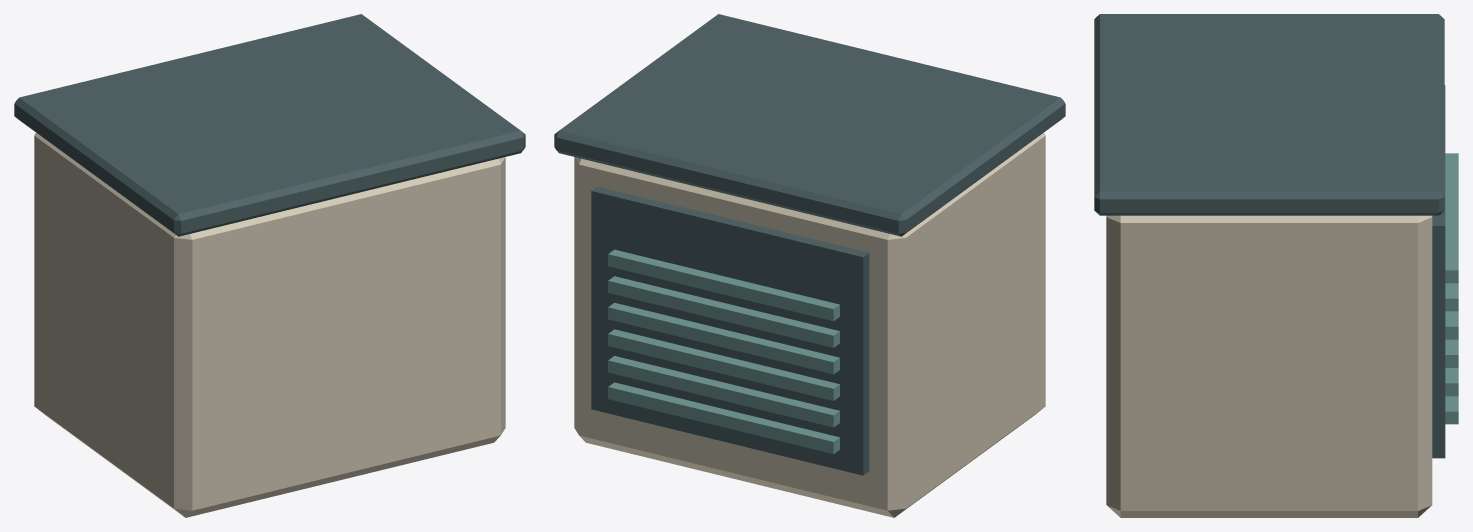
File: roof-unit.glb
The picture shows the model from 3 angles, left to right: view 1: azimuth 30°, elevation 25°; view 2: azimuth 150°, elevation 25°; view 3: azimuth 270°, elevation 25°; orthographic projection. The views are drawn at different scales.
Visible parts, largest first — view 1: CITY_roof_unit; view 2: CITY_roof_unit; view 3: CITY_roof_unit.
Part boxes in pixels (x1=…): CITY_roof_unit: x1=14, y1=14, x2=525, y2=517; CITY_roof_unit: x1=554, y1=14, x2=1065, y2=517; CITY_roof_unit: x1=1094, y1=14, x2=1458, y2=517.
Bounding box in the file's own units: 1.06 × 0.9075 × 0.895.
